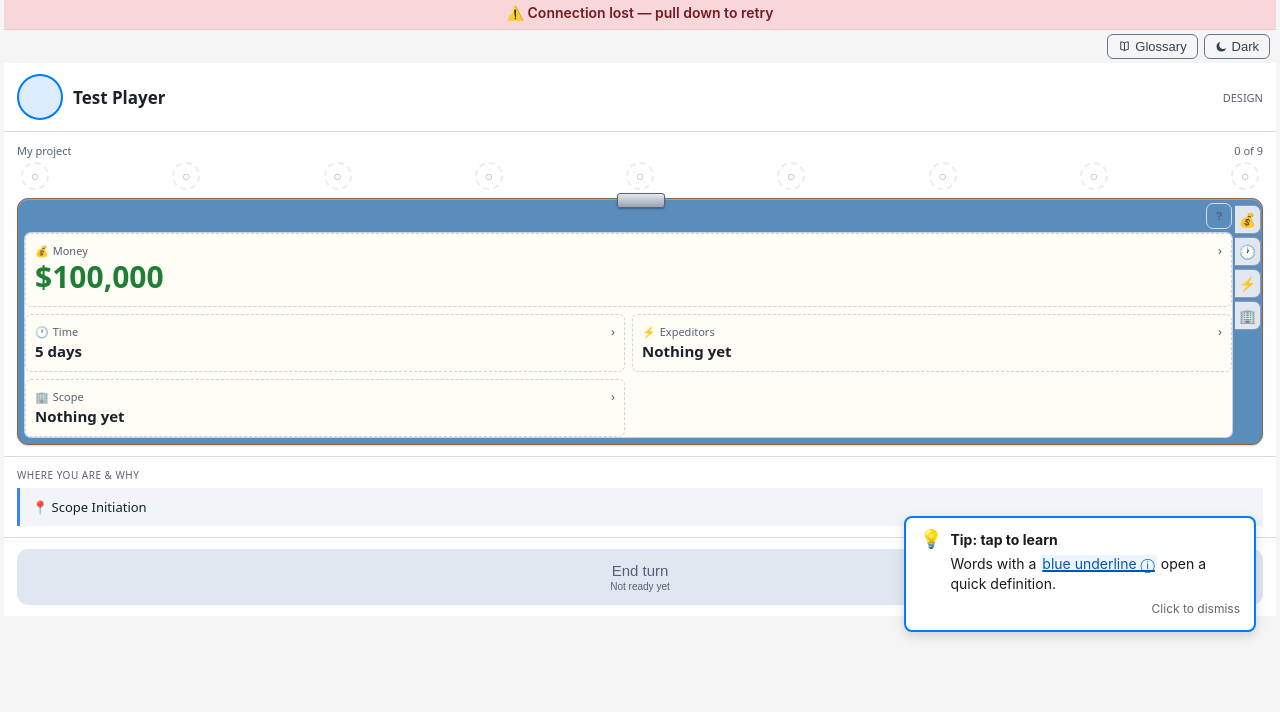
Test case: GameLayout — phone/controller view glossary access (TV mode) › opens the shared DictionaryPanel (via DictionaryContext) when tapped
The width and height of the screenshot is (1280, 712).
Click the button "Glossary".
click(1153, 46)  # box [1108, 34, 1198, 59]
(page scrolled)
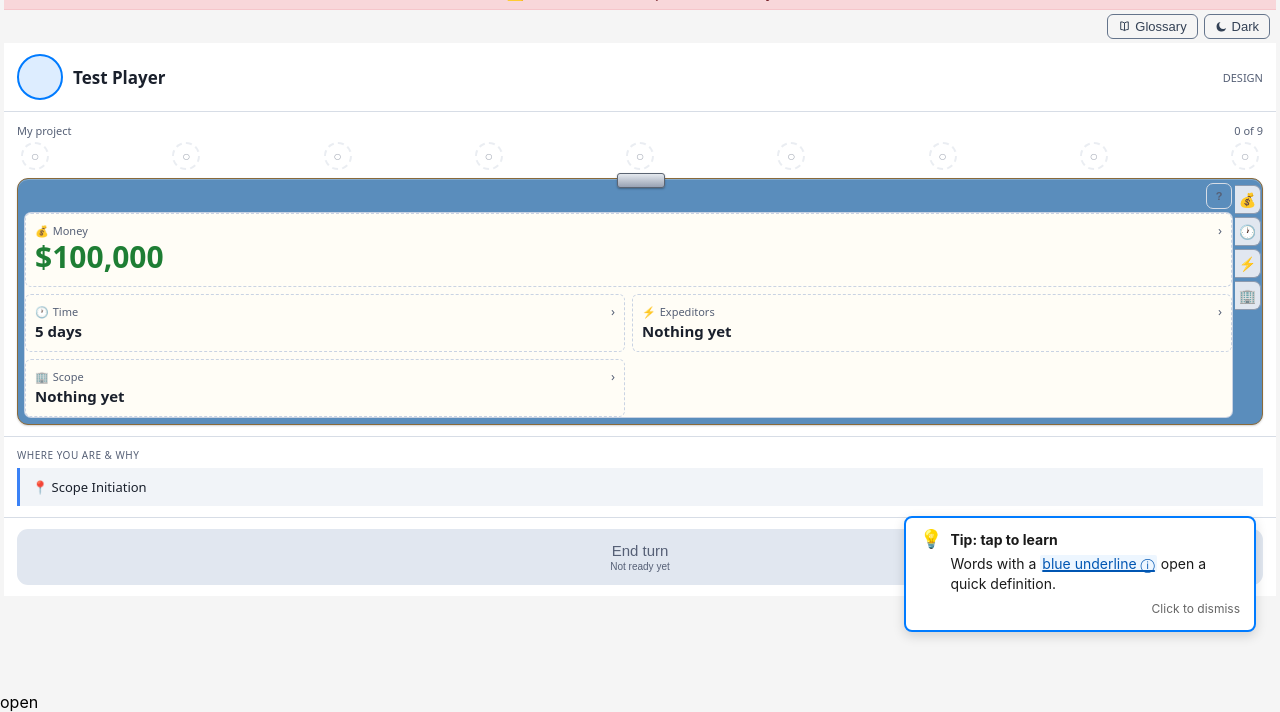
Check: the text with test id "dictionary-open-probe" reads "open", box [0, 692, 38, 711]
